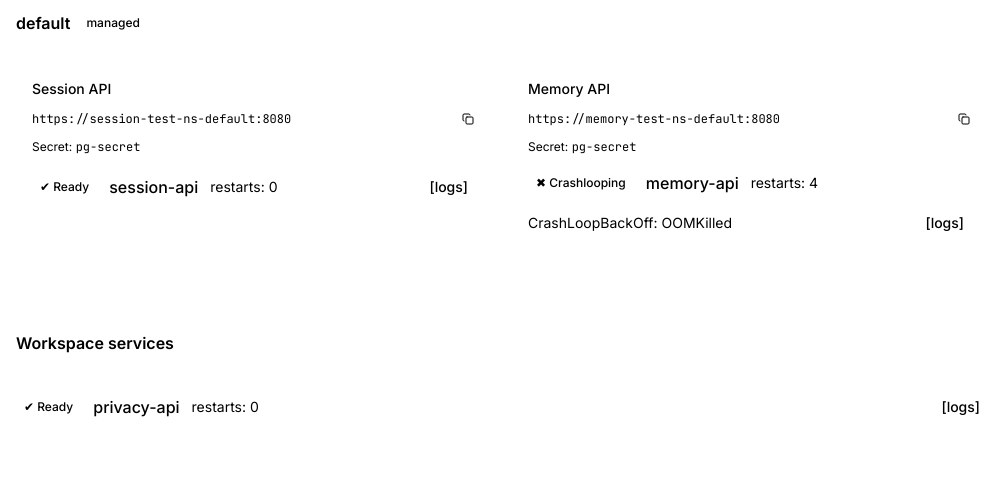
Test: ServicesTab › fetches logs for a service when [logs] is clicked
Click the button "[logs]" in the row of "CrashLoopBackOff: OOMKilled": {"x": 945, "y": 223} [913,207,976,239]
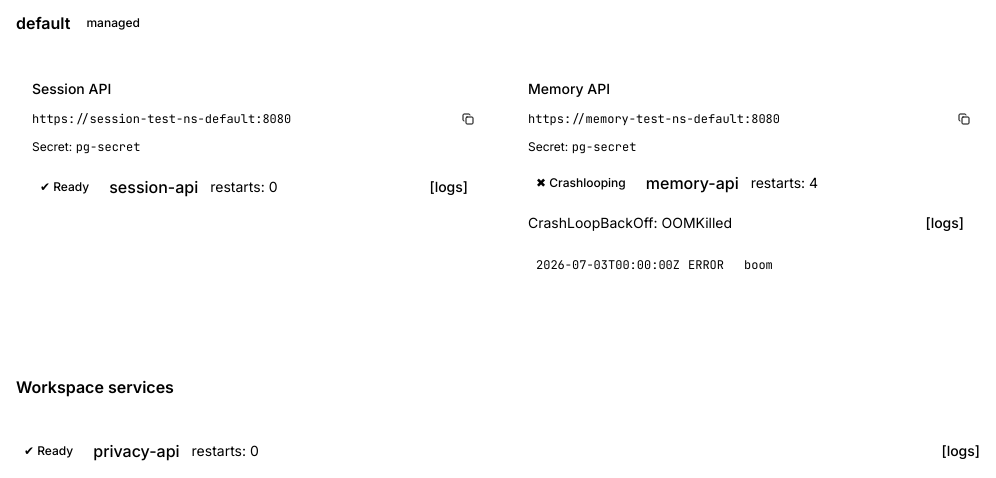
Expected: the text "boom" is shown, [744,257,773,273]
